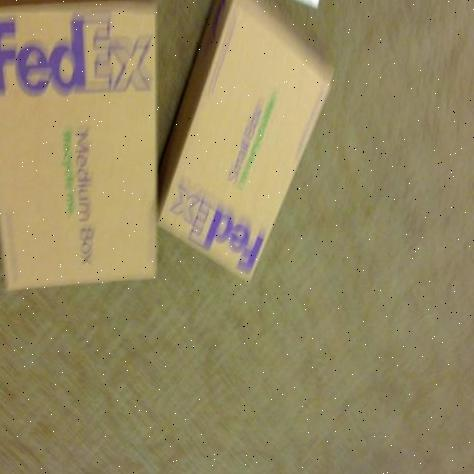Amazon: (0, 0, 159, 322), (174, 0, 336, 286)
